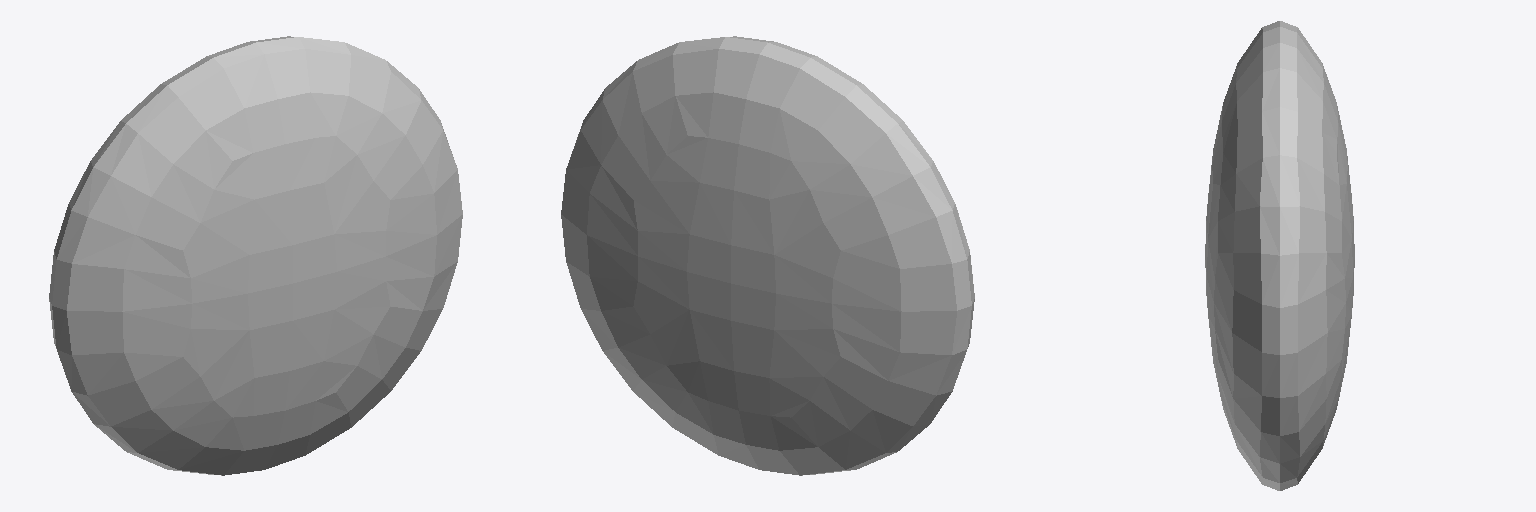
The model's file is ButtonMesh.obj.
The picture shows the model from 3 angles: view 1: azimuth 30°, elevation 25°; view 2: azimuth 150°, elevation 25°; view 3: azimuth 270°, elevation 25°; orthographic projection.
Parts seen in each view (by area): view 1: Button; view 2: Button; view 3: Button.
Part boxes in pixels (bbox=[...]): Button: bbox=[49, 36, 462, 475]; Button: bbox=[561, 36, 974, 475]; Button: bbox=[1205, 21, 1354, 490].
Size of the model in its own units: 115 by 115 by 36.56.